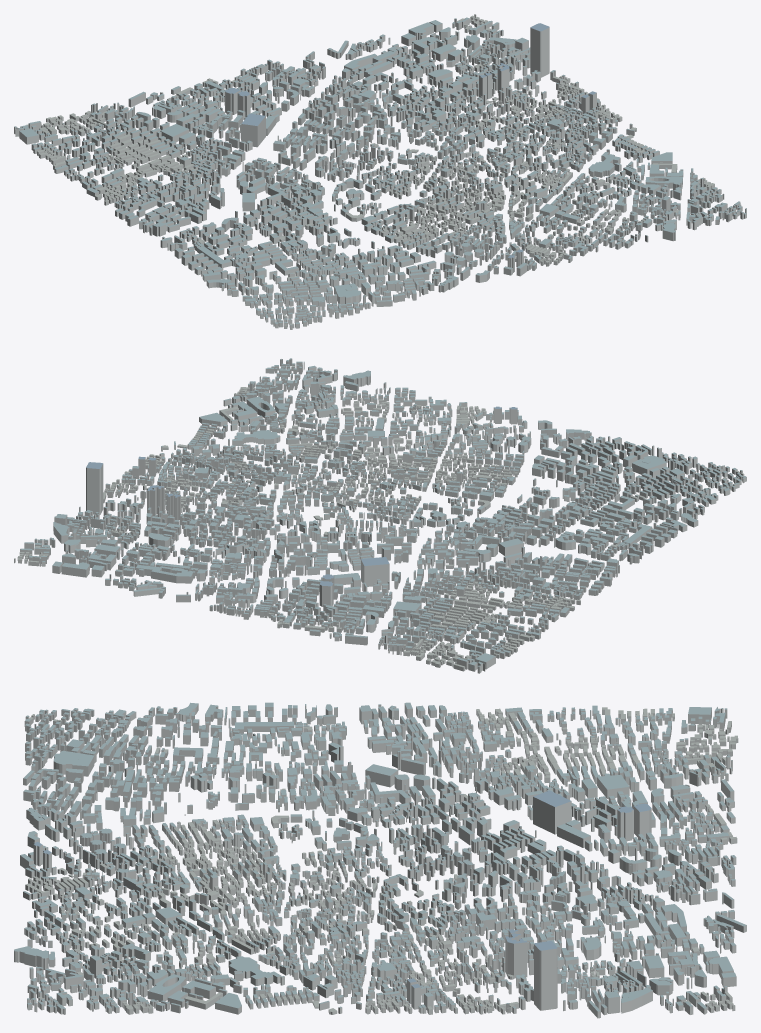
File: far.glb
The picture shows the model from 3 angles, top to bottom: view 1: azimuth 30°, elevation 25°; view 2: azimuth 150°, elevation 25°; view 3: azimuth 270°, elevation 25°; orthographic projection. The views are drawn at different scales.
Bounding box in the file's own units: 2162 × 196 × 2168.
